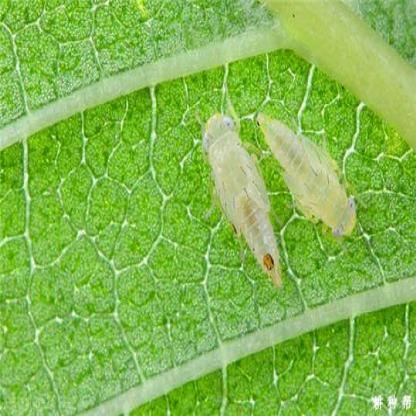Green-Leafhopper: (197, 110, 284, 294), (252, 111, 364, 244)
